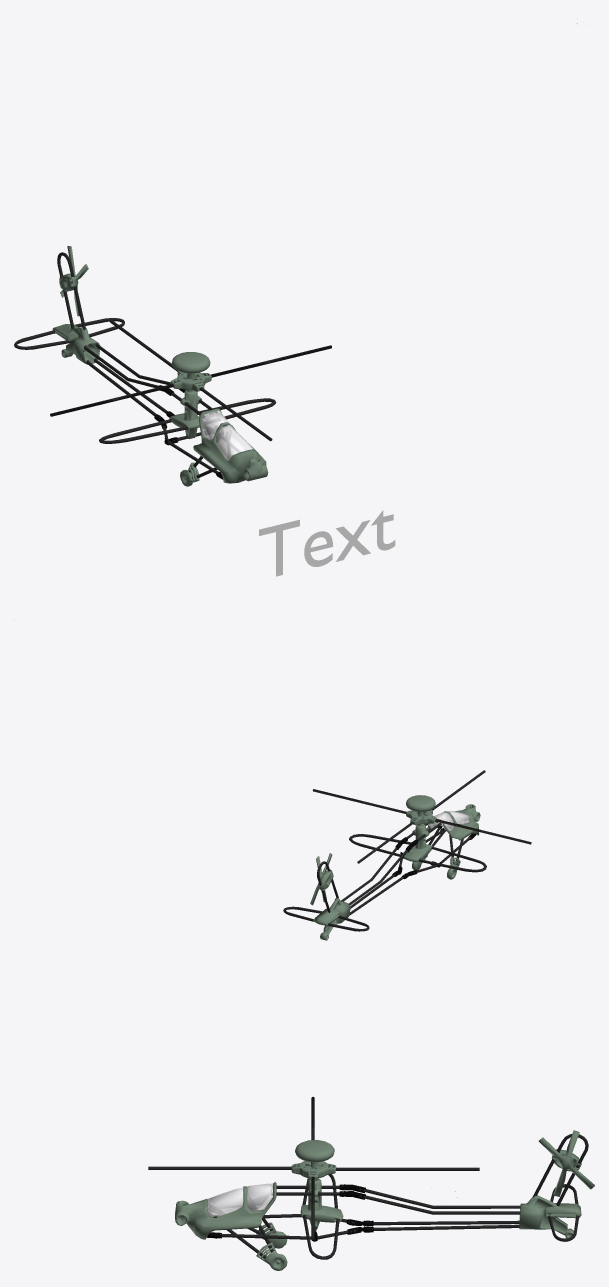
Rendered from Helicopter_Animation_Sequance 3.0.gltf.
3 renders of one model, top to bottom at view 1: azimuth 30°, elevation 25°; view 2: azimuth 150°, elevation 25°; view 3: azimuth 270°, elevation 25°, orthographic. The views are drawn at different scales.
Parts seen in each view (by area): view 1: Text, Front_Cover, Zbrush Too Blender 1.253, Glass_Front, Zbrush Too Blender.238; view 2: Zbrush Too Blender 1.253, Zbrush Too Blender.238, Front_Cover; view 3: Front_Cover, Zbrush Too Blender 1.253, Zbrush Too Blender.238, Glass_Front, Zbrush Too Blender.239, Cylinder.004, Cylinder.005, Cylinder.019, Cylinder, Cylinder.020, Cylinder.007, Cylinder.024 (+3 smaller).
Boxes of the visible parts, x1,y1,x2,y2 form: Text: [259, 510, 395, 576]; Front_Cover: [193, 408, 268, 483]; Zbrush Too Blender 1.253: [169, 352, 210, 438]; Glass_Front: [201, 410, 253, 460]; Zbrush Too Blender.238: [52, 324, 100, 364]; Zbrush Too Blender 1.253: [404, 795, 435, 862]; Zbrush Too Blender.238: [313, 898, 350, 940]; Front_Cover: [426, 804, 480, 840]; Front_Cover: [175, 1182, 276, 1239]; Zbrush Too Blender 1.253: [295, 1140, 343, 1229]; Zbrush Too Blender.238: [519, 1195, 581, 1238]; Glass_Front: [207, 1183, 272, 1216]; Zbrush Too Blender.239: [538, 1130, 594, 1196]; Cylinder.004: [359, 1195, 520, 1214]; Cylinder.005: [359, 1188, 520, 1208]; Cylinder.019: [291, 1161, 336, 1180]; Cylinder: [367, 1224, 519, 1230]; Cylinder.020: [148, 1166, 297, 1169]; Cylinder.007: [367, 1220, 519, 1225]; Cylinder.024: [336, 1167, 479, 1170].
Size of the model in its own units: 632 by 298 by 519.
